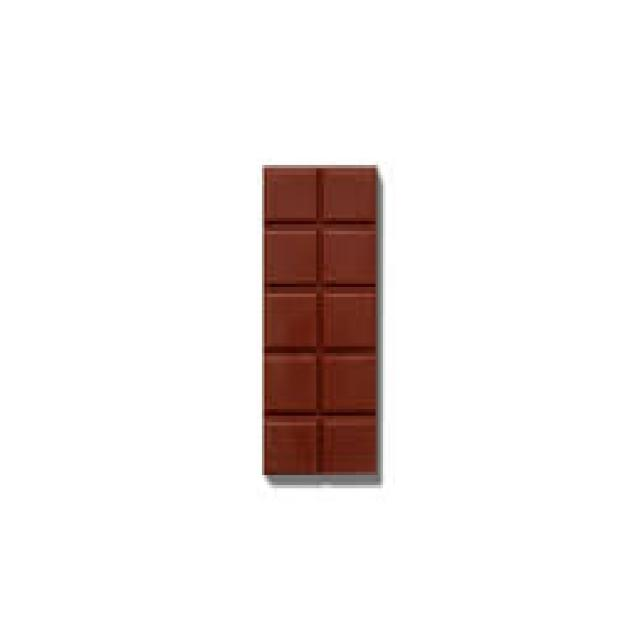Chocolate: (261, 165, 377, 479)
